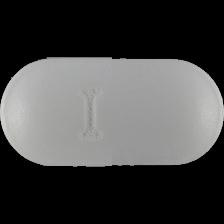31722-338: (0, 0, 224, 224)
